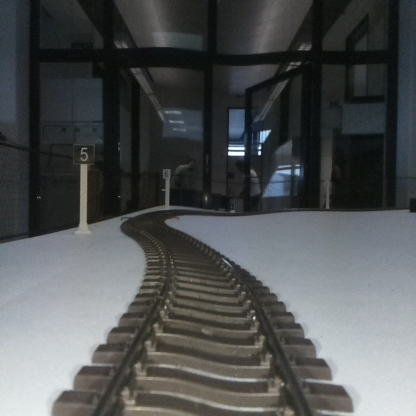black-info-5: (74, 145, 94, 232)
white-info-6: (163, 168, 170, 208)
